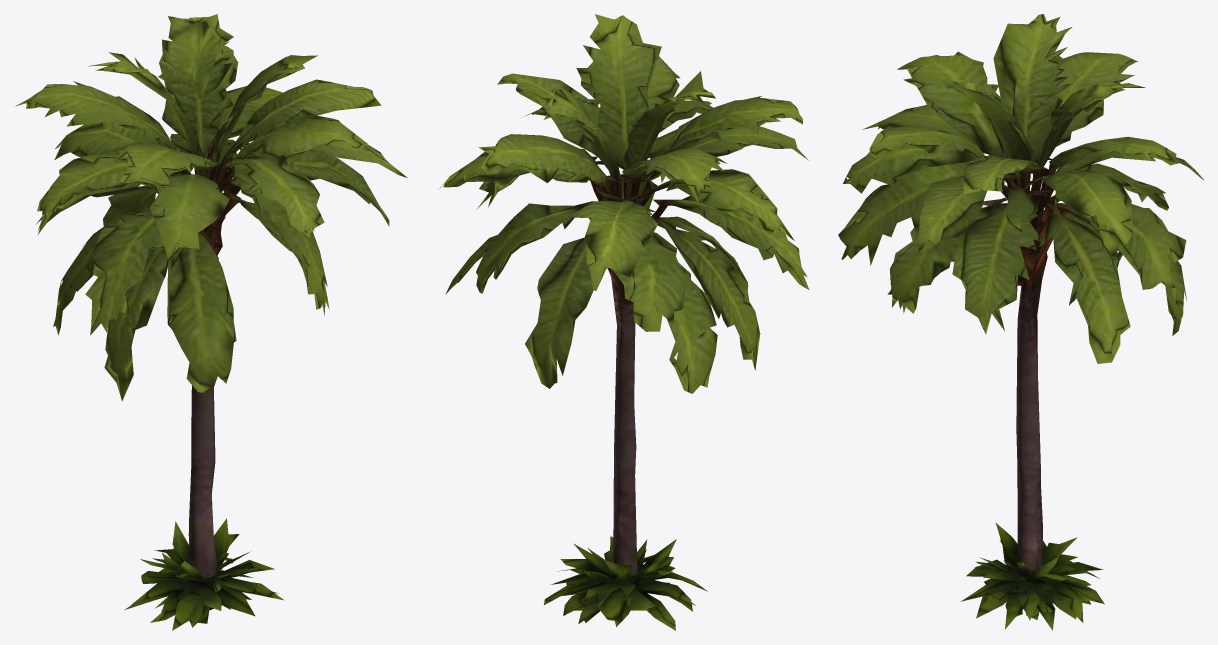
File: palm.glb
3 renders of one model, left to right at view 1: azimuth 30°, elevation 25°; view 2: azimuth 150°, elevation 25°; view 3: azimuth 270°, elevation 25°, orthographic. The views are drawn at different scales.
Parts seen in each view (by area): view 1: tripo_node_2c446011-61ba-46a7-995a-a29db6432cc5; view 2: tripo_node_2c446011-61ba-46a7-995a-a29db6432cc5; view 3: tripo_node_2c446011-61ba-46a7-995a-a29db6432cc5.
Part boxes in pixels (x1,y1,x2,y2): tripo_node_2c446011-61ba-46a7-995a-a29db6432cc5: (15,14,407,630); tripo_node_2c446011-61ba-46a7-995a-a29db6432cc5: (439,14,809,630); tripo_node_2c446011-61ba-46a7-995a-a29db6432cc5: (838,14,1203,630).
Bounding box in the file's own units: 2.18 × 3.48 × 2.09.
1 material, 1 textured.
